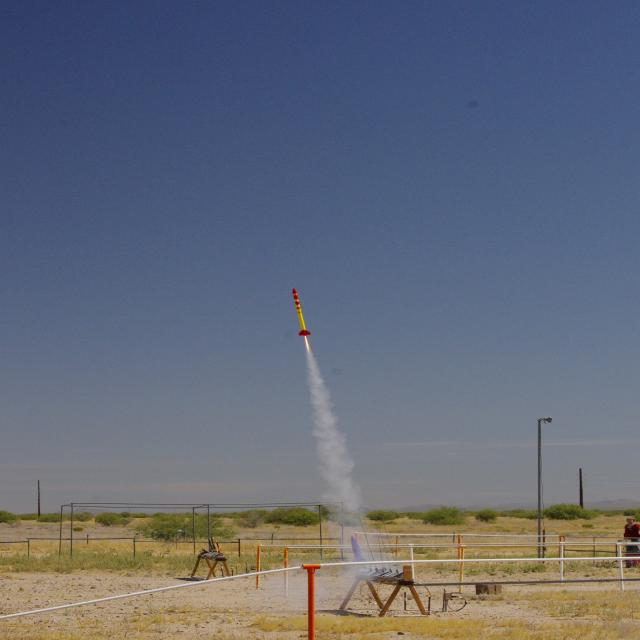Rocket: (292, 288, 311, 336), (350, 536, 368, 564), (206, 538, 214, 552), (215, 539, 222, 552), (210, 538, 217, 550)
